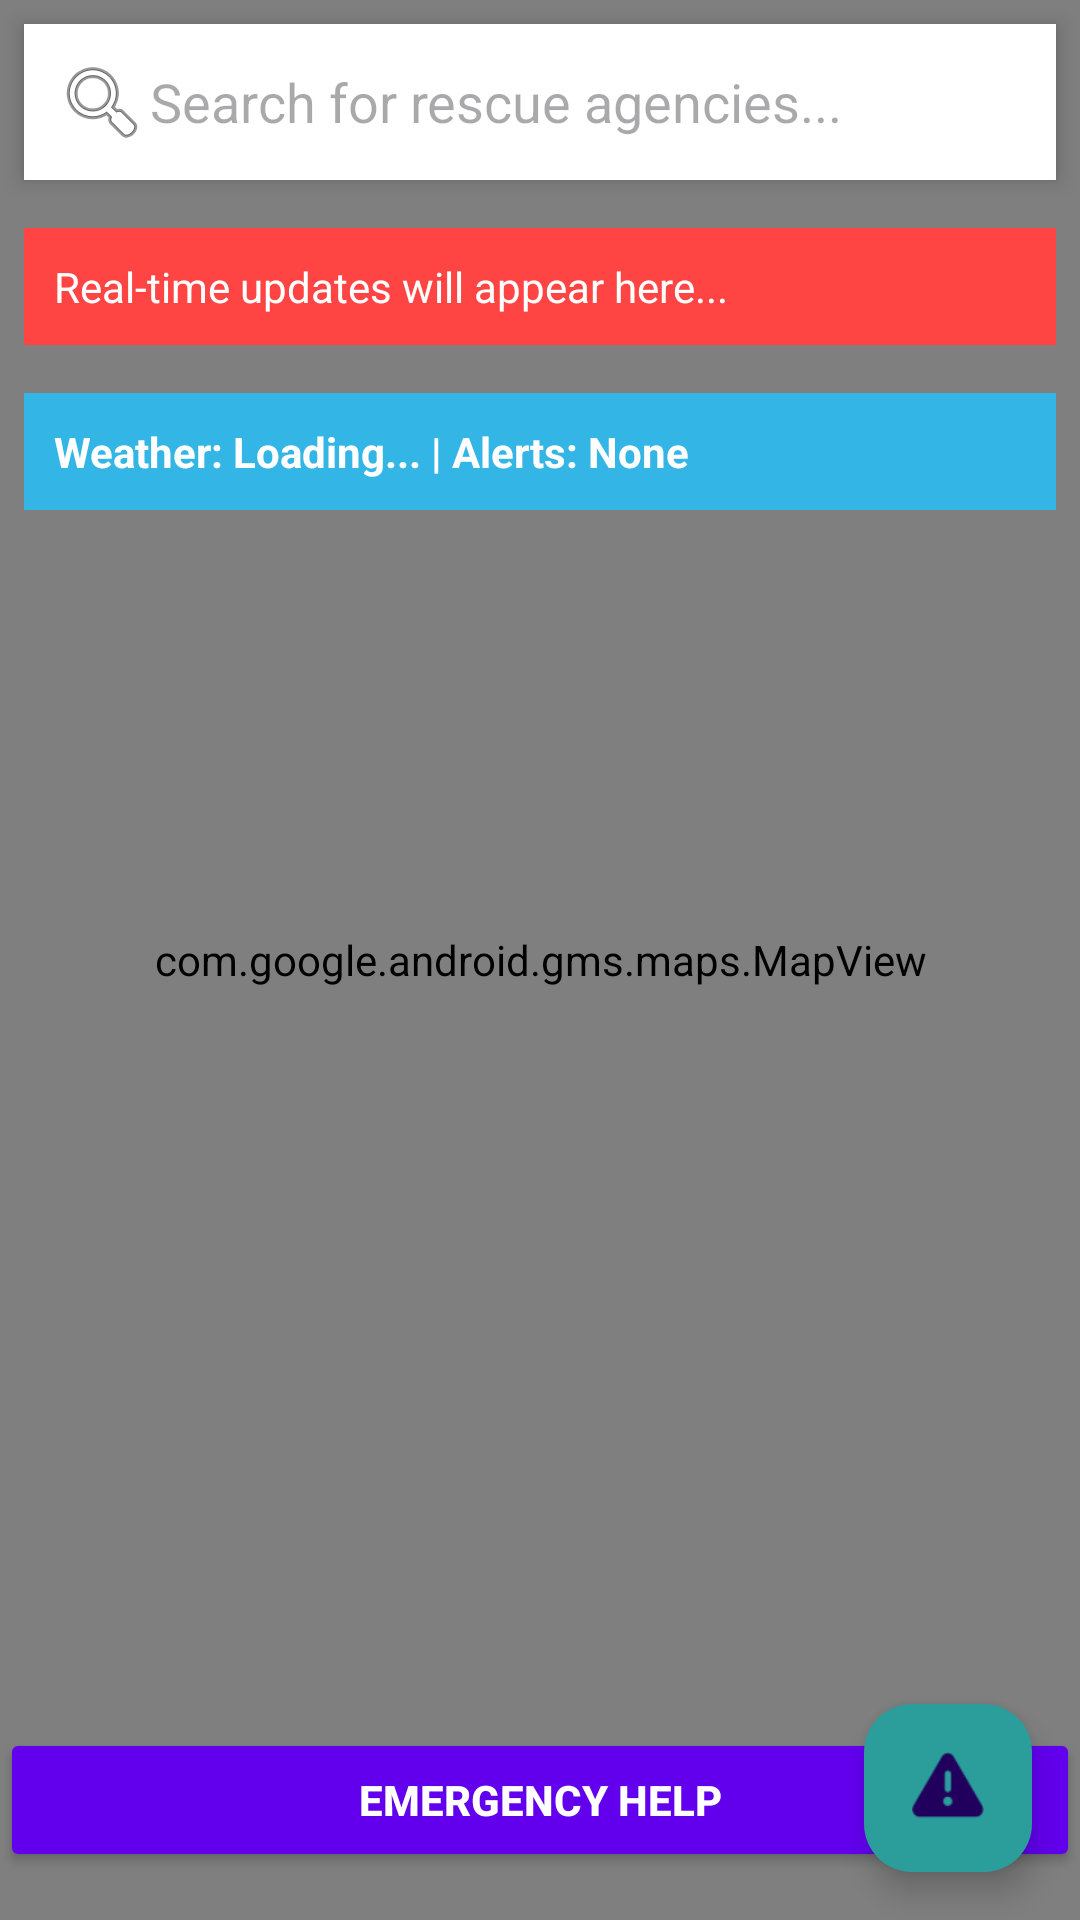

Screen size 1080 × 1920. Icon name, then its box in pixels as (x1, y1, x2, y2):
alert: (864, 1704, 1032, 1872)
